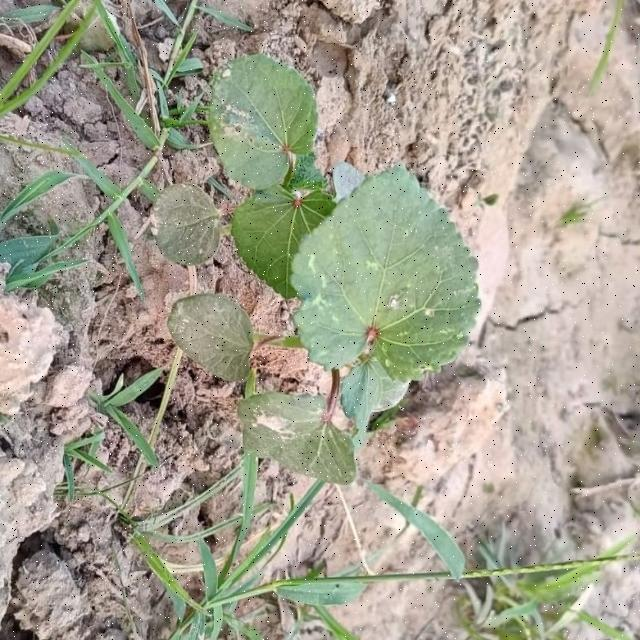plant: (160, 55, 599, 638)
